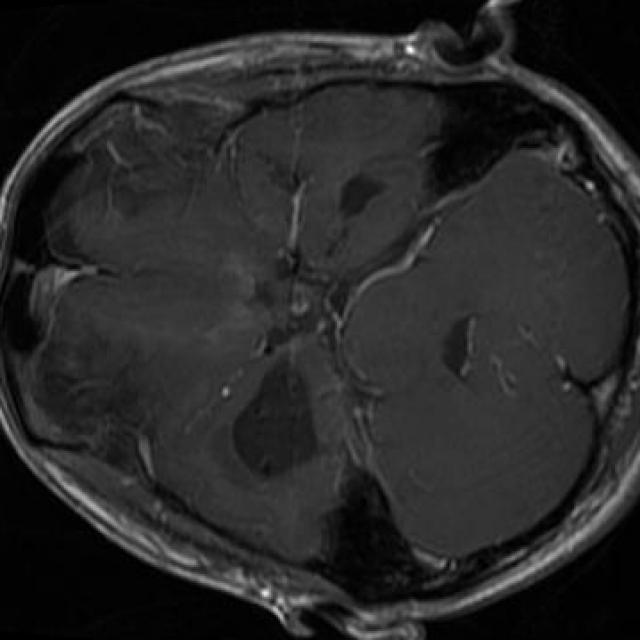glioma: (232, 360, 317, 480)
